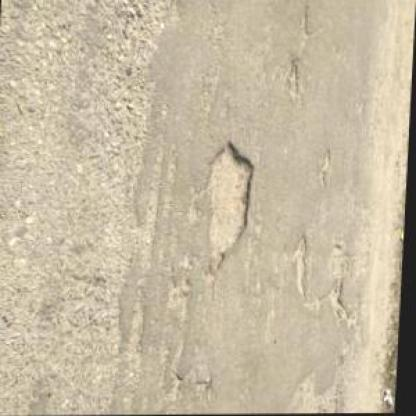pothole: (204, 140, 258, 273), (330, 277, 355, 329), (296, 234, 310, 306)
